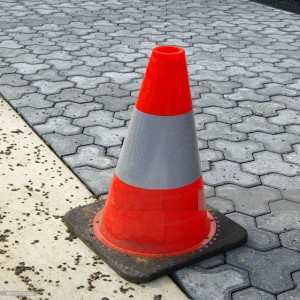traffic cone: (62, 45, 249, 285)
